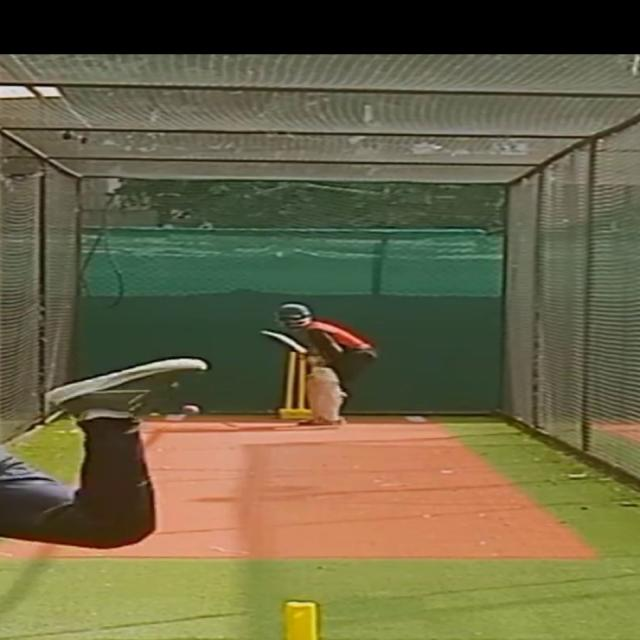ball: (178, 402, 197, 417)
stump: (278, 349, 310, 420)
